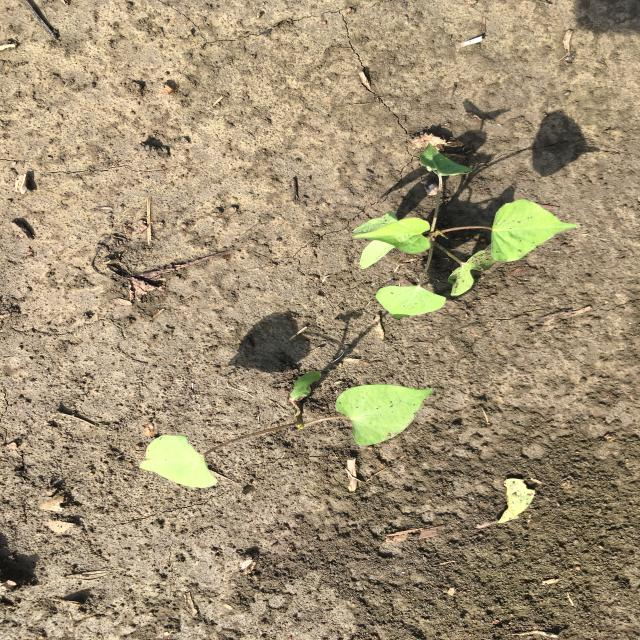MorningGlory: (138, 141, 586, 491)
